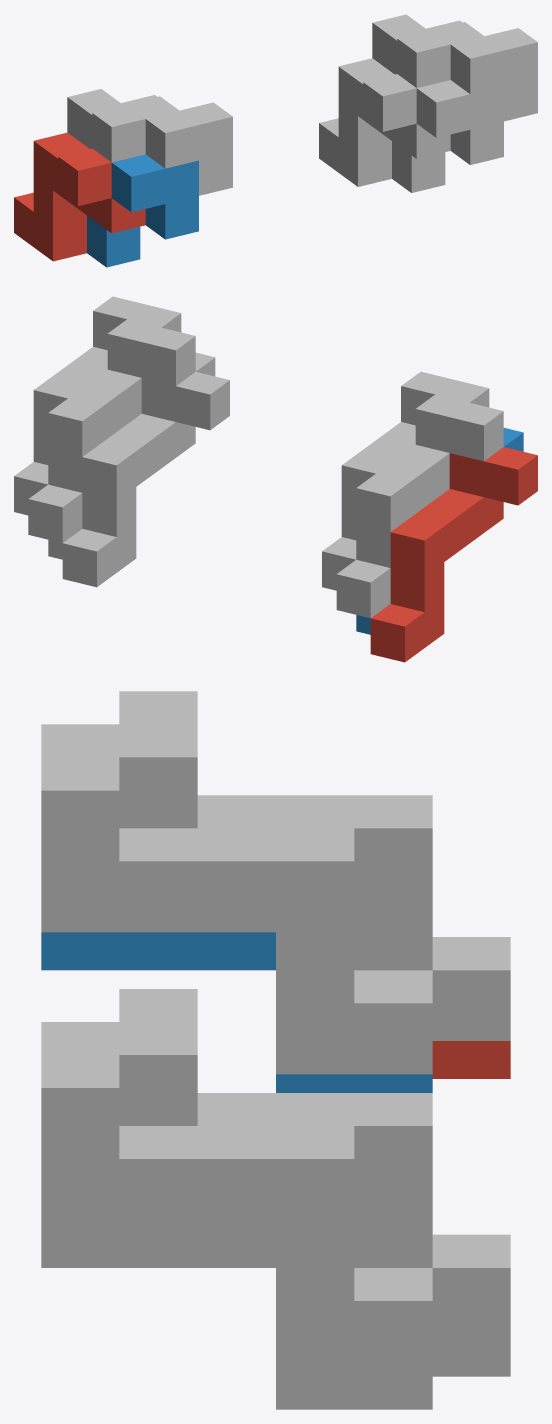
The model's file is tiling.obj.
The picture shows the model from 3 angles, top to bottom: view 1: azimuth 30°, elevation 25°; view 2: azimuth 150°, elevation 25°; view 3: azimuth 270°, elevation 25°; orthographic projection. The views are drawn at different scales.
Visible parts, largest first — view 1: copy_1_domain_1, copy_1_domain_5, copy_1_domain_2, copy_1_domain_6, copy_1_domain_8, copy_1_domain_4, copy_1_domain_7, copy_1_domain_3; view 2: copy_1_domain_1, copy_1_domain_5, copy_1_domain_7, copy_1_domain_3, copy_1_domain_4, copy_1_domain_8, copy_1_domain_6, copy_1_domain_2; view 3: copy_1_domain_4, copy_1_domain_8, copy_1_domain_3, copy_1_domain_7, copy_1_domain_6, copy_1_domain_2, copy_1_domain_5, copy_1_domain_1.
Boxes of the visible parts, <box> form: copy_1_domain_1: <box>14,132,145,261</box>; copy_1_domain_5: <box>319,58,450,186</box>; copy_1_domain_2: <box>87,154,198,267</box>; copy_1_domain_6: <box>392,80,503,192</box>; copy_1_domain_8: <box>426,20,537,121</box>; copy_1_domain_4: <box>121,95,232,195</box>; copy_1_domain_7: <box>372,14,483,87</box>; copy_1_domain_3: <box>67,89,178,162</box>; copy_1_domain_1: <box>370,447,537,662</box>; copy_1_domain_5: <box>62,372,229,587</box>; copy_1_domain_7: <box>28,319,195,542</box>; copy_1_domain_3: <box>336,394,503,618</box>; copy_1_domain_4: <box>322,371,489,590</box>; copy_1_domain_8: <box>14,296,181,515</box>; copy_1_domain_6: <box>48,352,215,559</box>; copy_1_domain_2: <box>356,428,523,634</box>; copy_1_domain_4: <box>41,724,432,1074</box>; copy_1_domain_8: <box>41,1022,432,1371</box>; copy_1_domain_3: <box>119,691,510,1040</box>; copy_1_domain_7: <box>119,989,510,1338</box>; copy_1_domain_6: <box>41,1230,432,1409</box>; copy_1_domain_2: <box>41,932,432,1092</box>; copy_1_domain_5: <box>432,1338,510,1376</box>; copy_1_domain_1: <box>432,1041,510,1078</box>.
Bounding box in the file's own units: 13 × 5 × 6.
